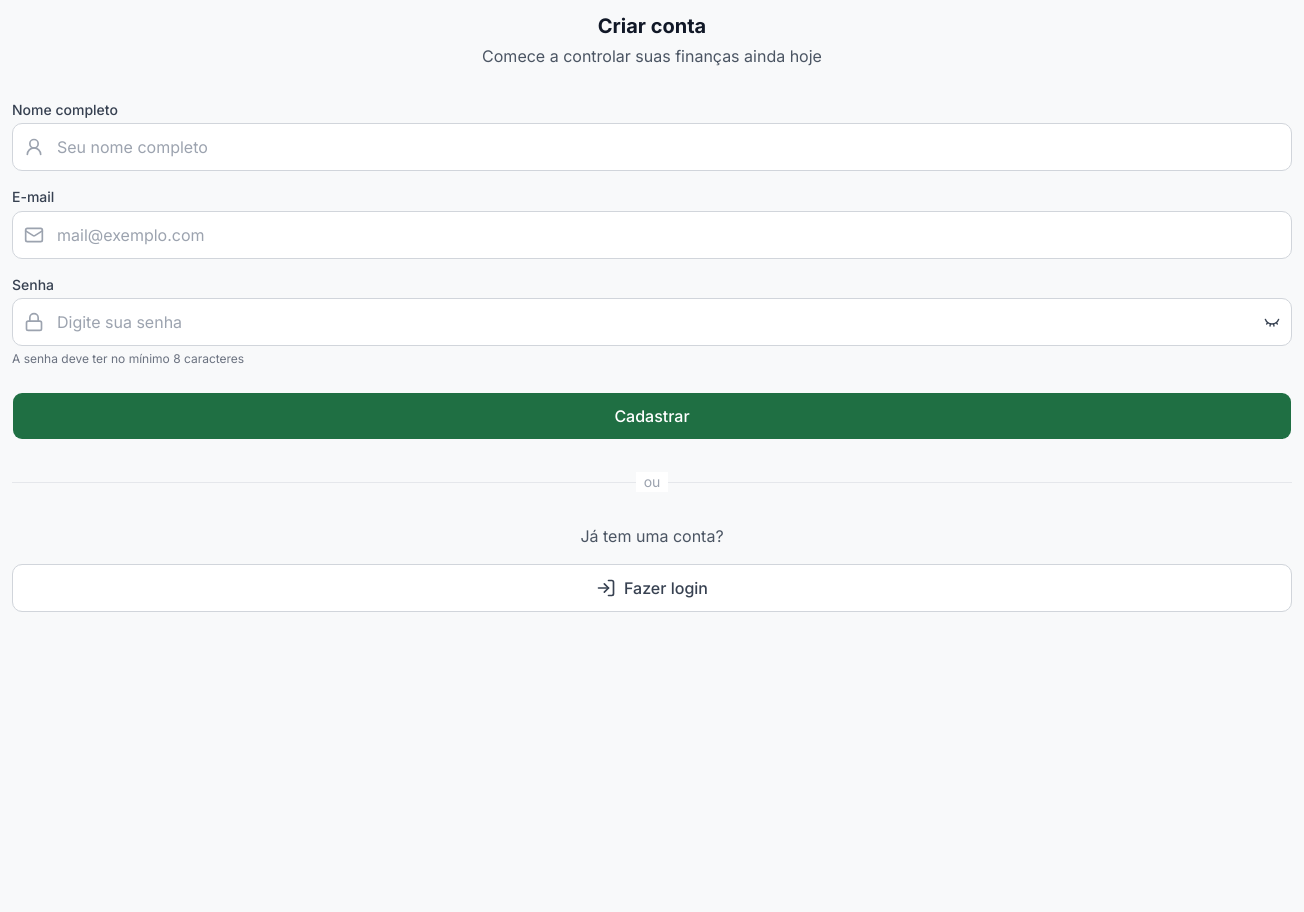
Test: SignUp › requires every field
Step 1. Click the button "Cadastrar" → (652, 416), box [12, 392, 1292, 440]
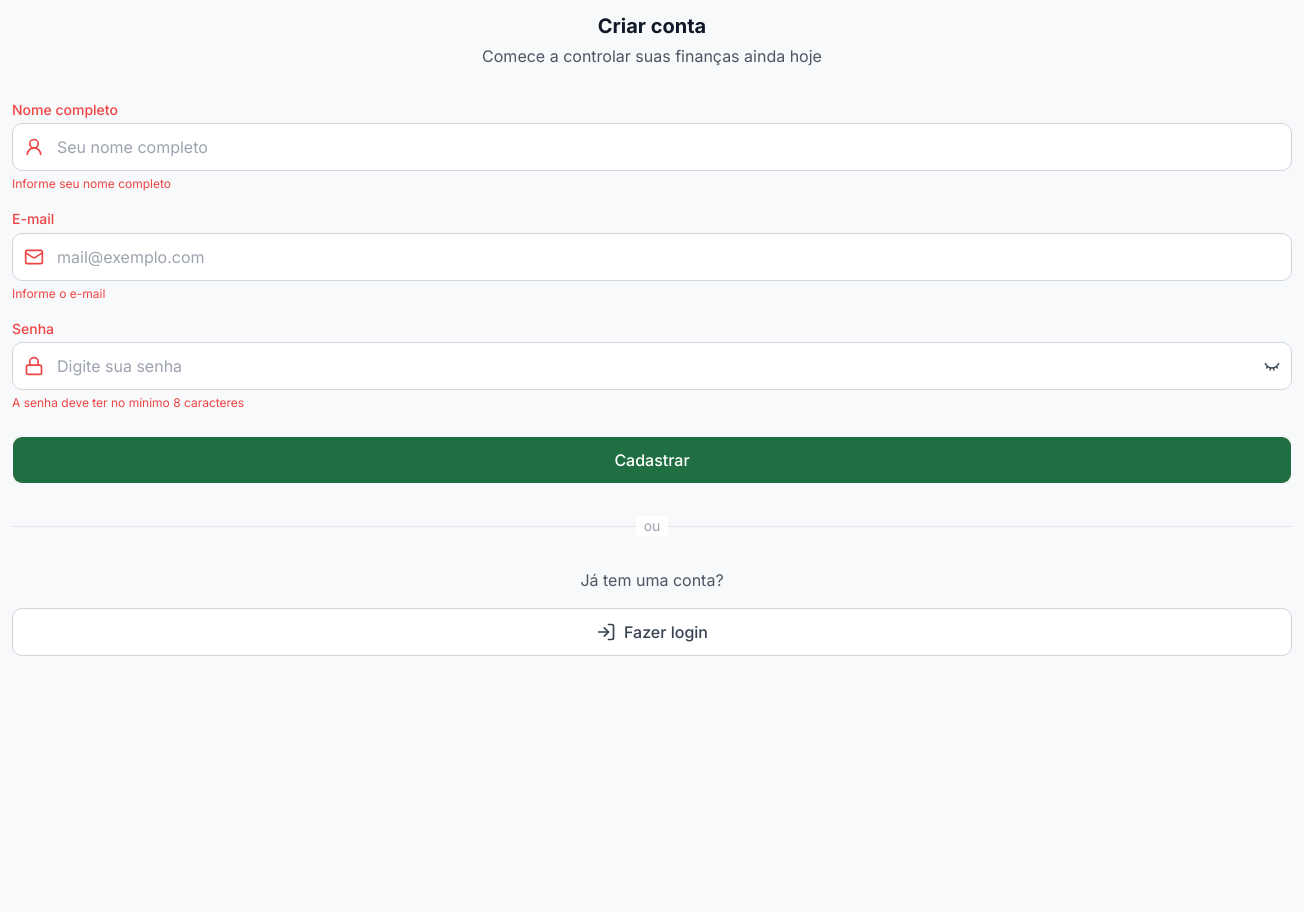
Result: the text "Informe seu nome completo" is shown at [12, 176, 171, 191]
Result: the text "Informe o e-mail" is shown at [12, 286, 105, 300]
